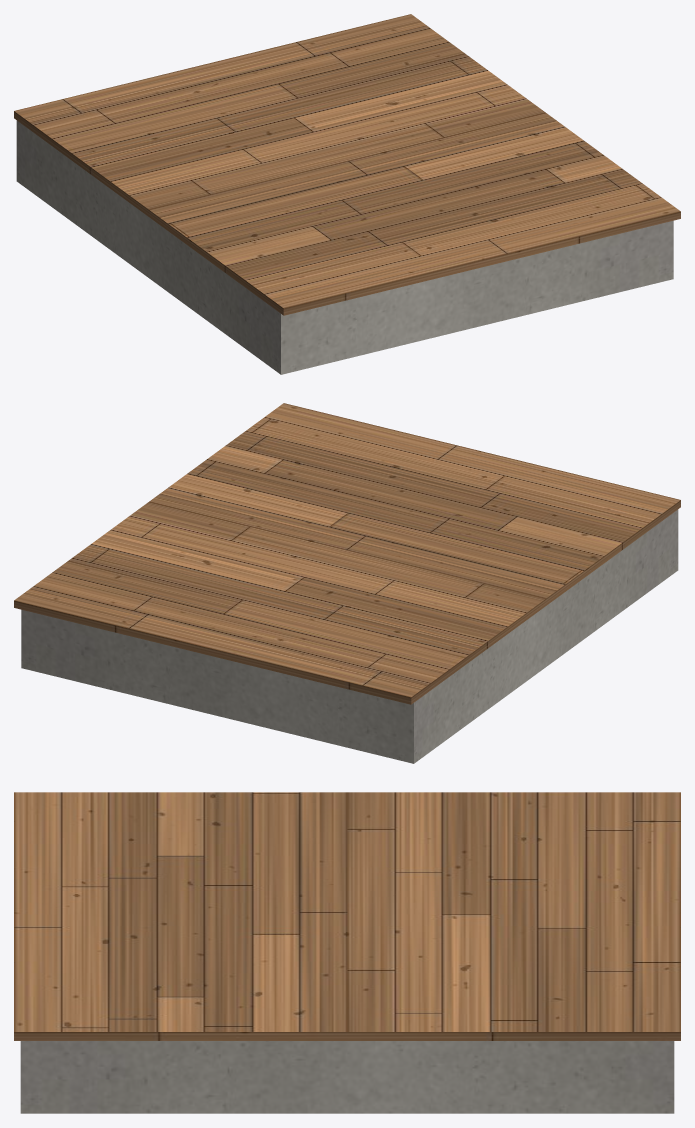
The model's file is floor_wood_g_e30_0_0_0.glb.
The picture shows the model from 3 angles, top to bottom: view 1: azimuth 30°, elevation 25°; view 2: azimuth 150°, elevation 25°; view 3: azimuth 270°, elevation 25°; orthographic projection. The views are drawn at different scales.
Parts seen in each view (by area): view 1: floor_wood_g_e30_0_0_0_floor, floor_wood_g_e30_0_0_0_concrete; view 2: floor_wood_g_e30_0_0_0_floor, floor_wood_g_e30_0_0_0_concrete; view 3: floor_wood_g_e30_0_0_0_floor, floor_wood_g_e30_0_0_0_concrete.
Boxes of the visible parts, x1,y1,x2,y2 form: floor_wood_g_e30_0_0_0_floor: (14,14,680,315); floor_wood_g_e30_0_0_0_concrete: (16,120,673,374); floor_wood_g_e30_0_0_0_floor: (14,403,680,704); floor_wood_g_e30_0_0_0_concrete: (21,509,678,763); floor_wood_g_e30_0_0_0_floor: (14,792,680,1040); floor_wood_g_e30_0_0_0_concrete: (20,1041,674,1113).
Bounding box in the file's own units: 1.7 × 0.28 × 2.
2 materials, 2 textured.
